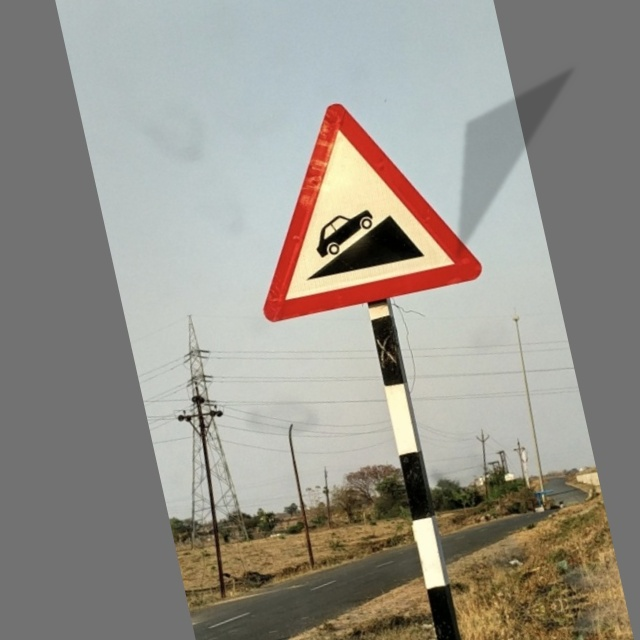Steep_Ascent: (227, 79, 479, 328)
